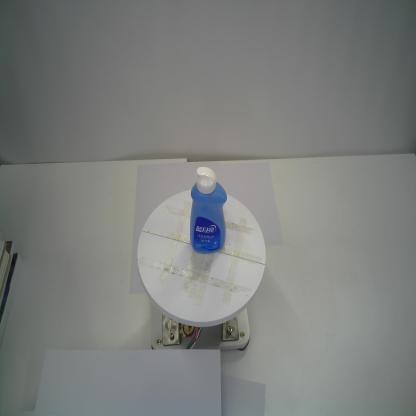Personal Hygiene: (189, 166, 228, 255)
